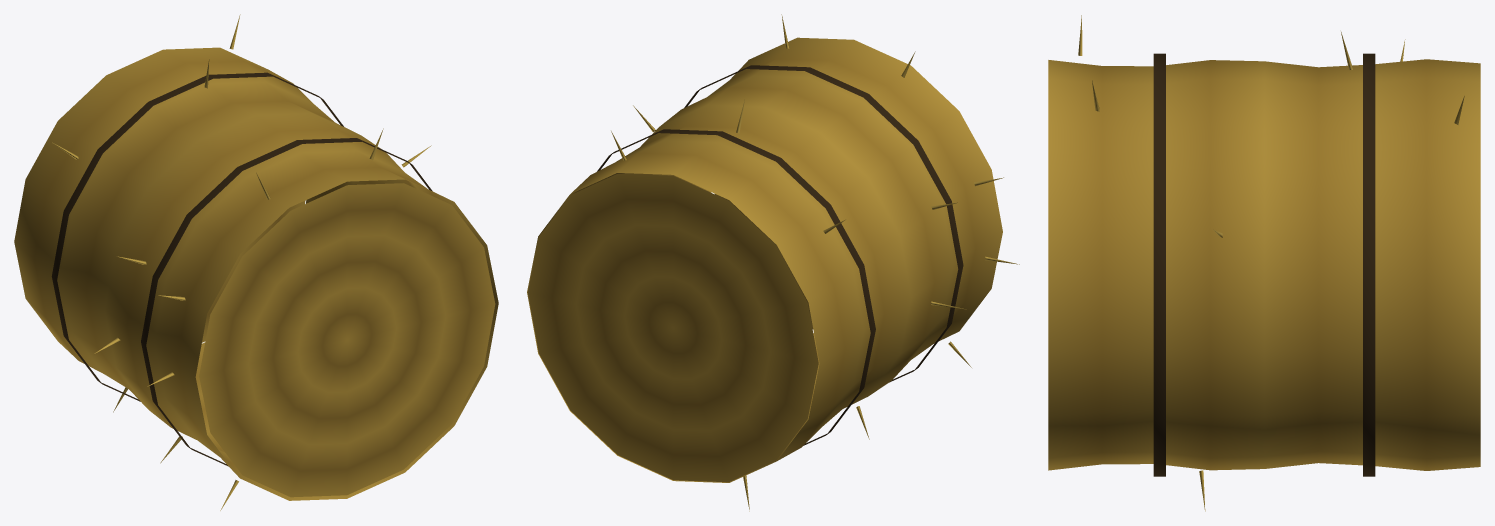
The model's file is jerami_gulungan.glb.
3 views of the same model, side by side, from view 1: azimuth 30°, elevation 25°; view 2: azimuth 150°, elevation 25°; view 3: azimuth 270°, elevation 25° (orthographic). The views are drawn at different scales.
Visible parts, largest first — view 1: jerami_gulungan; view 2: jerami_gulungan; view 3: jerami_gulungan.
Part boxes in pixels (x1=…): jerami_gulungan: x1=14, y1=14, x2=498, y2=510; jerami_gulungan: x1=527, y1=14, x2=1019, y2=511; jerami_gulungan: x1=1048, y1=15, x2=1480, y2=511.
Size of the model in its own units: 1.33 by 1.39 by 1.24.
